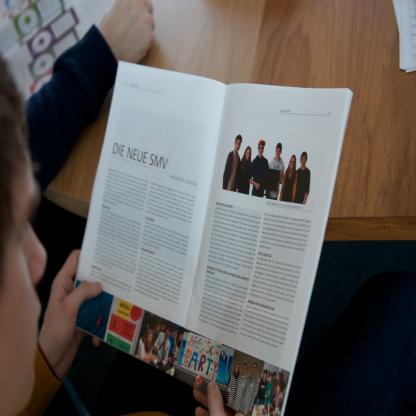book: (53, 58, 364, 416), (0, 0, 115, 108)
